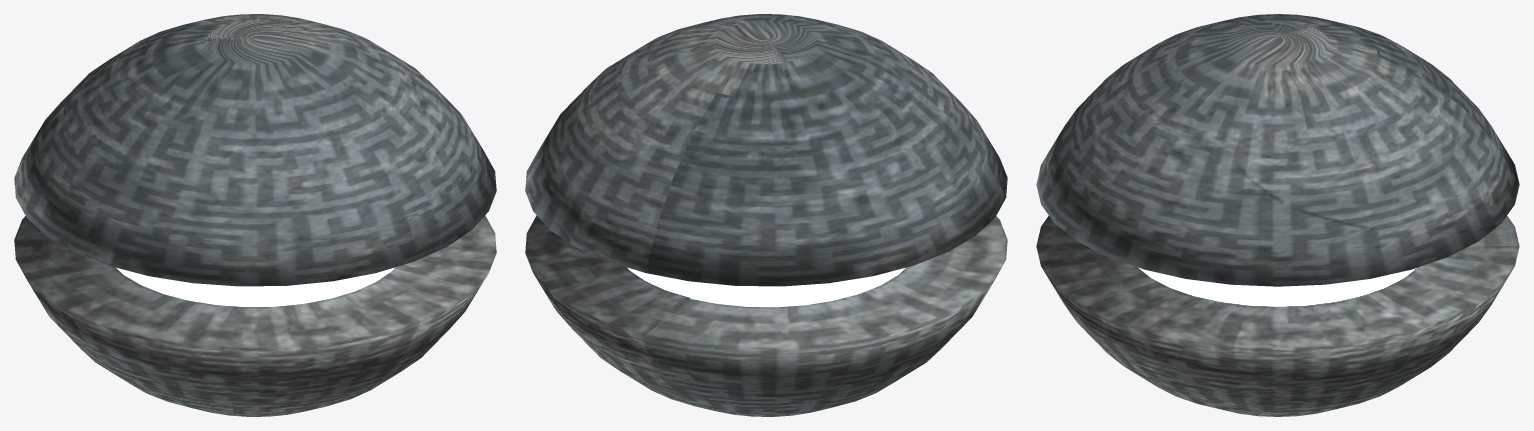
The model's file is bot.dae.
The picture shows the model from 3 angles, left to right: view 1: azimuth 30°, elevation 25°; view 2: azimuth 150°, elevation 25°; view 3: azimuth 270°, elevation 25°; orthographic projection.
Visible parts, largest first — view 1: Sphere; view 2: Sphere; view 3: Sphere.
Boxes of the visible parts, x1,y1,x2,y2 form: Sphere: (14, 14, 496, 416); Sphere: (525, 14, 1007, 416); Sphere: (1036, 14, 1519, 416).
Size of the model in its own units: 1.85 by 1.85 by 1.5.
Materials: 1 (1 with a texture image).
